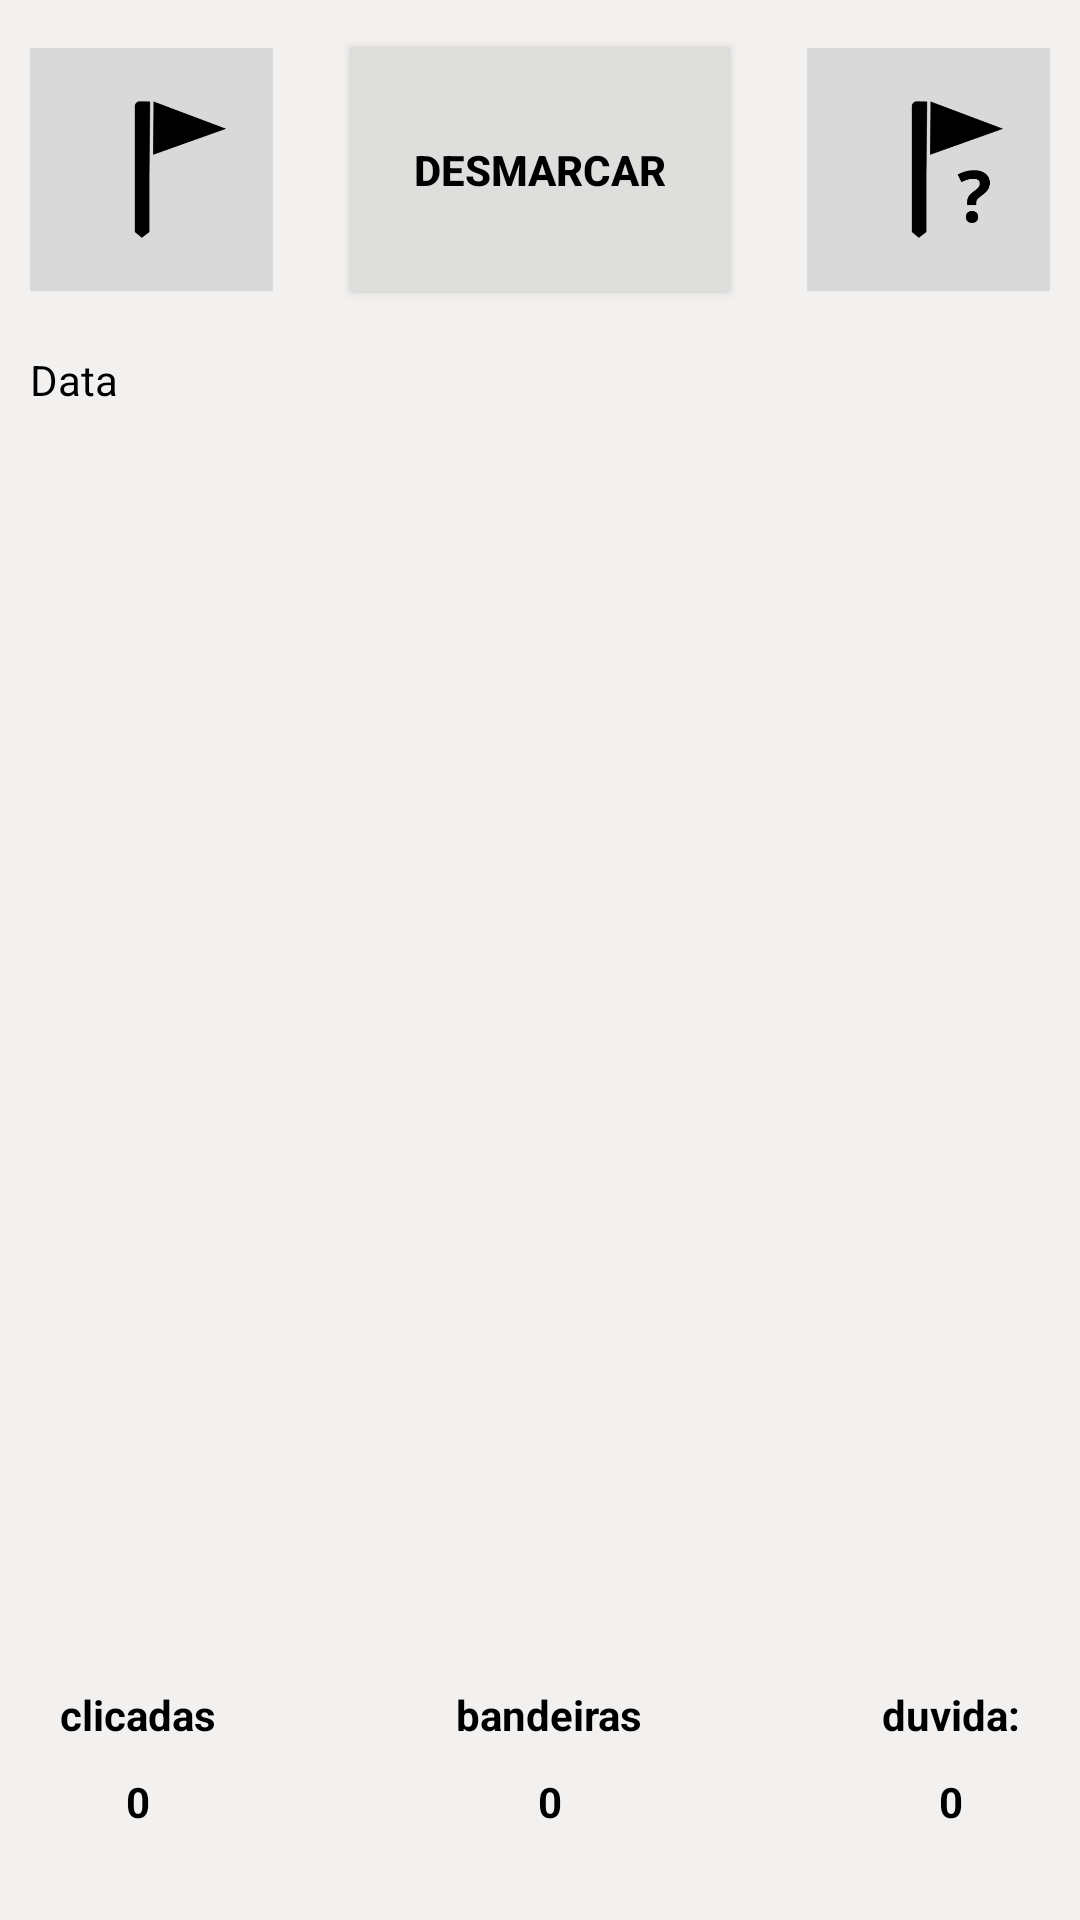

Icon click points for this 1080px×1920px phone screenshot, format (x,y):
bandeira: (151,169)
duvida: (928,169)
